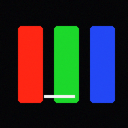3 line_h: (44, 95, 74, 97)
